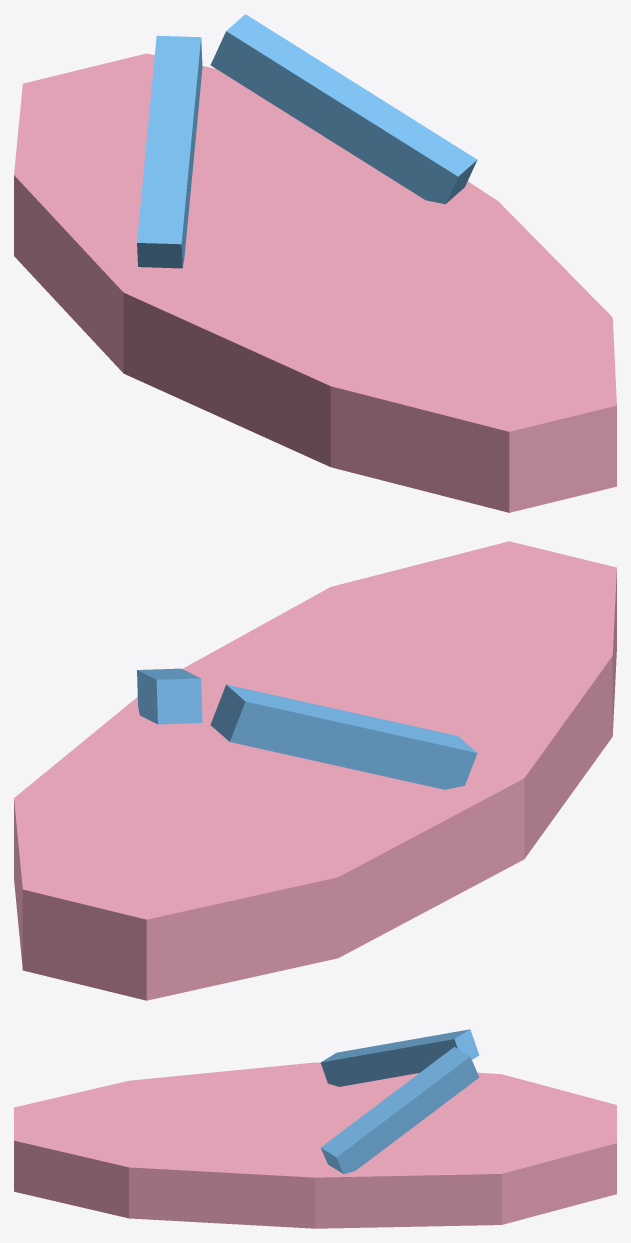
The model's file is Basura_Plastico_Chancla.fbx.
3 views of the same model, one above another, from view 1: azimuth 30°, elevation 25°; view 2: azimuth 150°, elevation 25°; view 3: azimuth 270°, elevation 25° (orthographic). The views are drawn at different scales.
Parts seen in each view (by area): view 1: Basura_Plastico_Chancla; view 2: Basura_Plastico_Chancla; view 3: Basura_Plastico_Chancla.
Boxes of the visible parts, <box> form: Basura_Plastico_Chancla: <box>14,14,616,512</box>; Basura_Plastico_Chancla: <box>14,541,616,1000</box>; Basura_Plastico_Chancla: <box>14,1029,616,1228</box>.
Size of the model in its own units: 0.387 by 0.2071 by 0.856.
1 material, 1 textured.
